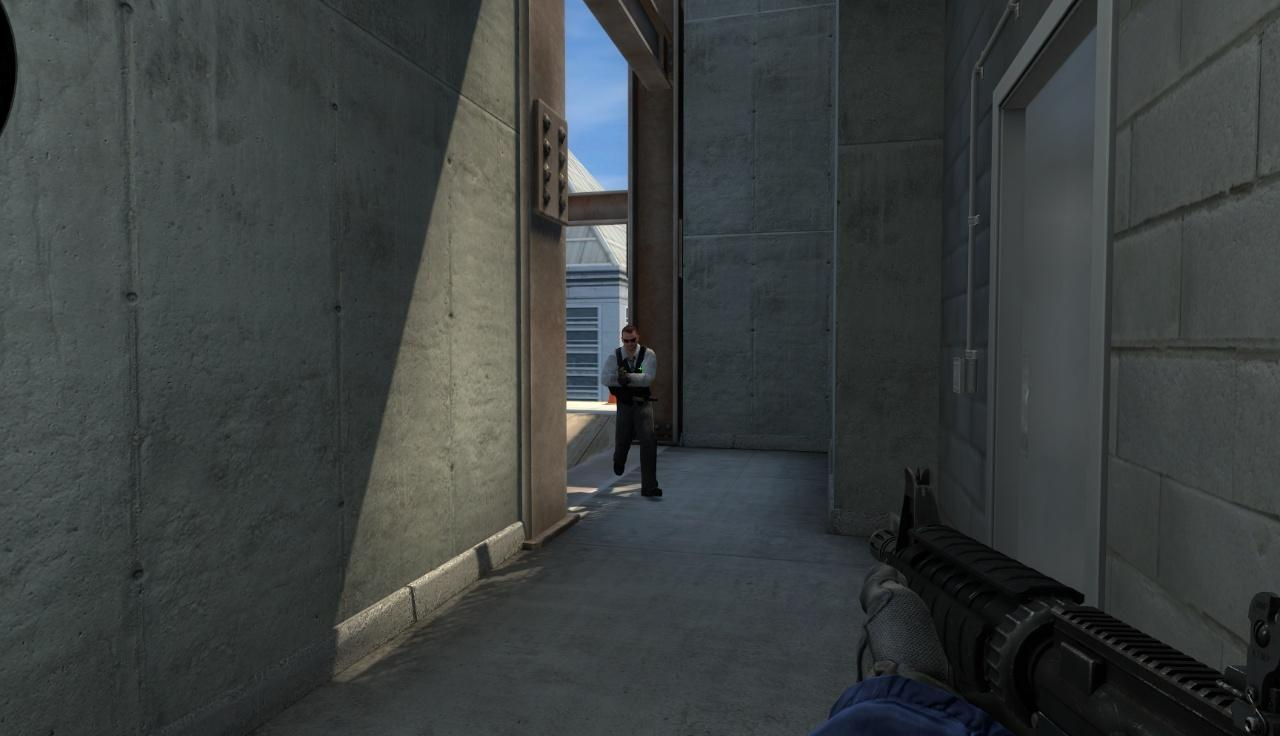rifle: (855, 475, 1277, 730)
tt: (601, 327, 661, 498)
tthead: (622, 326, 638, 350)
